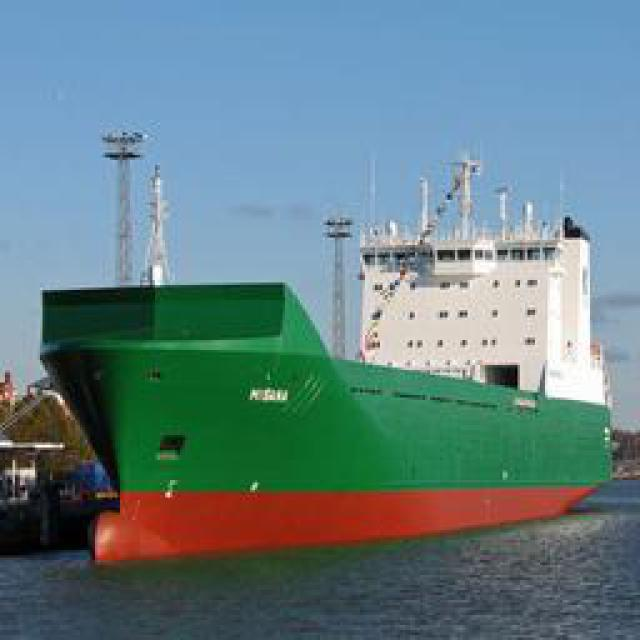Ship: (45, 177, 618, 570)
